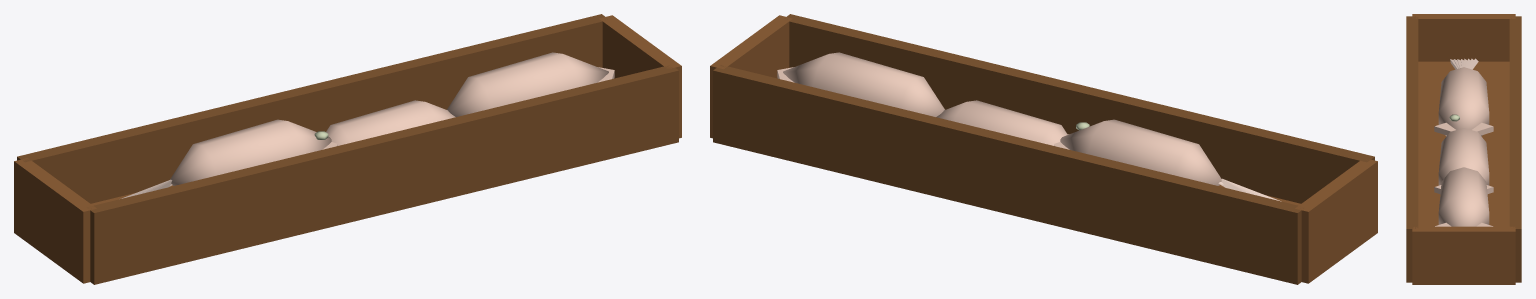
The model's file is Sea_Squid.fbx.
The picture shows the model from 3 angles, left to right: view 1: azimuth 30°, elevation 25°; view 2: azimuth 150°, elevation 25°; view 3: azimuth 270°, elevation 25°; orthographic projection. The views are drawn at different scales.
Visible parts, largest first — view 1: Sea_Squid__Stack, Sea_Squid; view 2: Sea_Squid__Stack, Sea_Squid; view 3: Sea_Squid__Stack, Sea_Squid.
Boxes of the visible parts, x1,y1,x2,y2 form: Sea_Squid__Stack: [14, 14, 681, 284]; Sea_Squid: [326, 100, 455, 145]; Sea_Squid__Stack: [710, 14, 1377, 284]; Sea_Squid: [936, 100, 1067, 145]; Sea_Squid__Stack: [1406, 14, 1521, 284]; Sea_Squid: [1434, 128, 1493, 193].
Size of the model in its own units: 0.3489 by 0.044 by 0.078.
